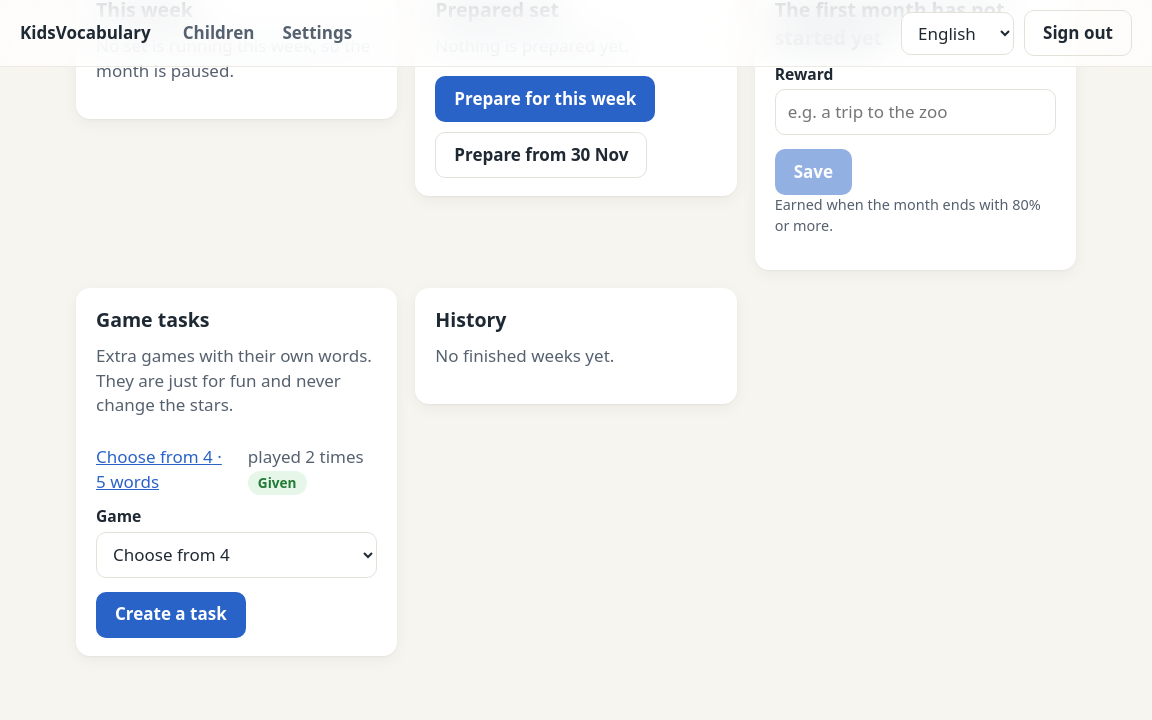
Test: game tasks (parent) › lists the tasks on the child page and creates a new one
(page scrolled)
Expected: the text "played 2 times" is shown, [248,445,364,468]
Expected: the text "Given" is shown, [248,471,307,495]
Select "Word search" in the dropdown labelled "Game" at (237, 555), box [96,532,377,578]
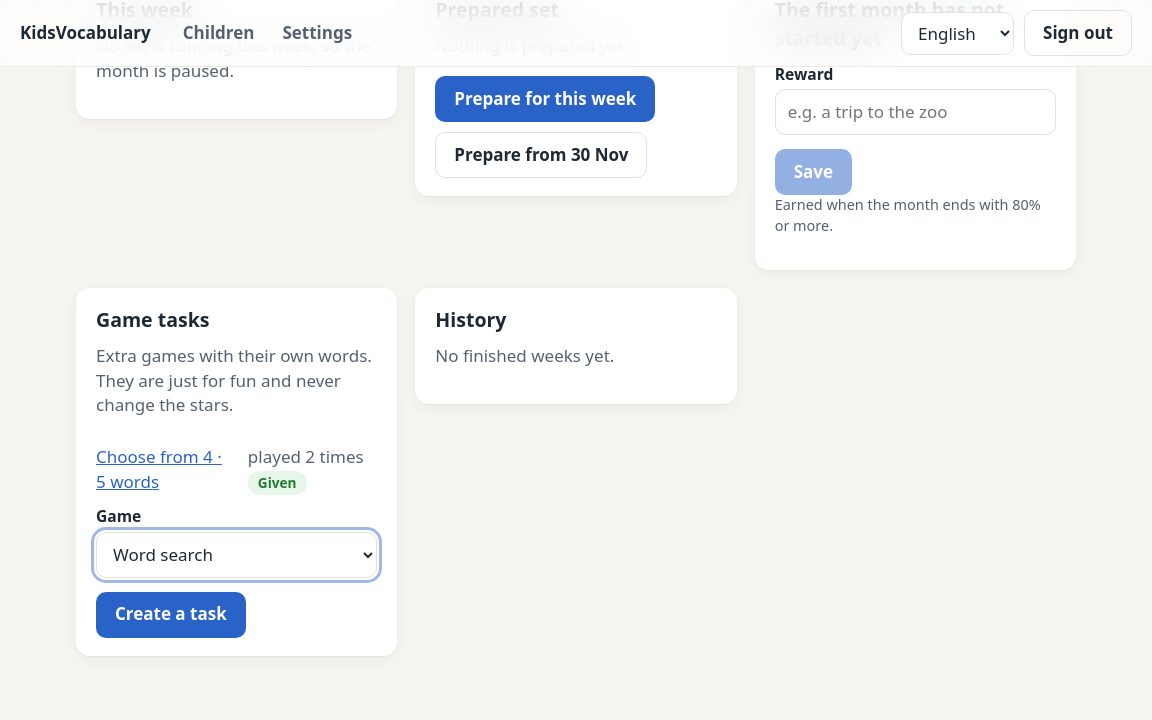
Click the button "Create a task" at (171, 615), box [96,592,246,638]
(page scrolled)
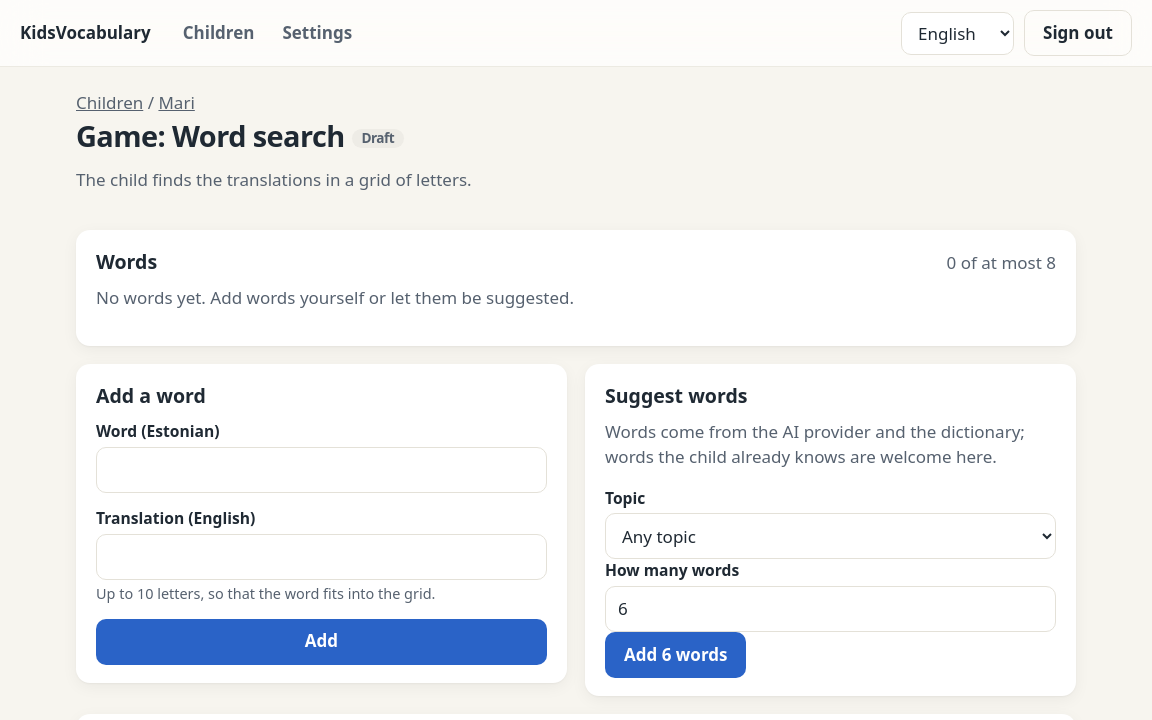
Expected: the heading "Game: Word search Draft" is shown, [76,116,404,155]
Expected: the text "No words yet. Add words yourself or let them be suggested." is shown, [96,286,574,309]
